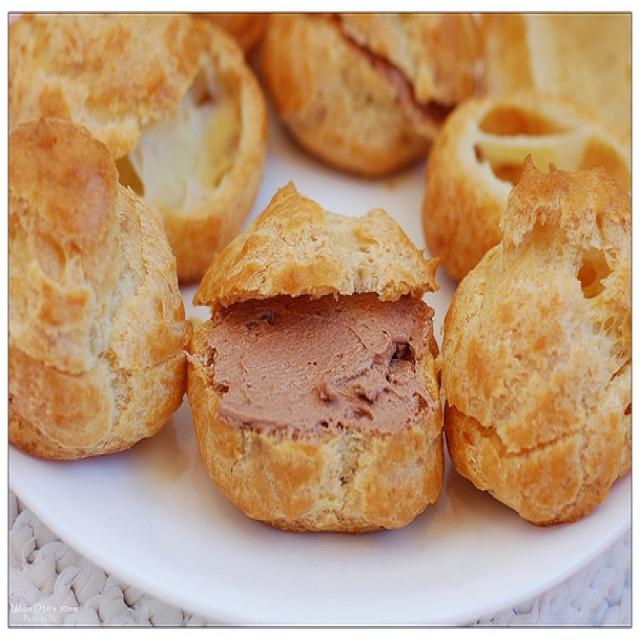炸货点心: (21, 28, 621, 565)
蛋糕甜品: (21, 28, 621, 565)
